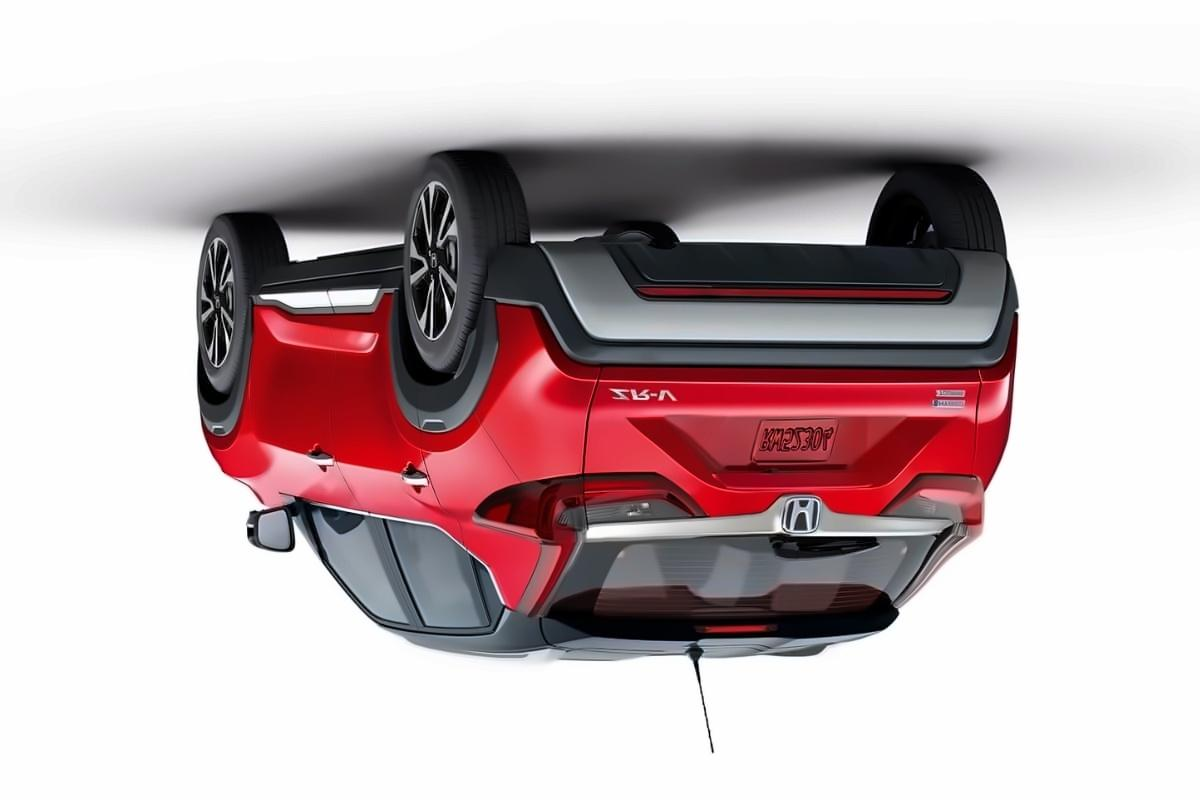Car boot: (570, 346, 987, 545)
Driver-s door - -F-R-: (256, 245, 421, 659)
Fender - -F-R-: (203, 343, 290, 533)
Fender - -R-R-: (421, 306, 591, 567)
Passenger-s door - -R-R-: (316, 229, 508, 672)
Rear bumper: (485, 231, 1034, 389)
Rear light - -L-: (875, 470, 983, 537)
Rear light - -R-: (469, 470, 708, 545)
Side bumper - -R-: (252, 236, 406, 362)
Side mirror - -R-: (246, 496, 305, 559)
